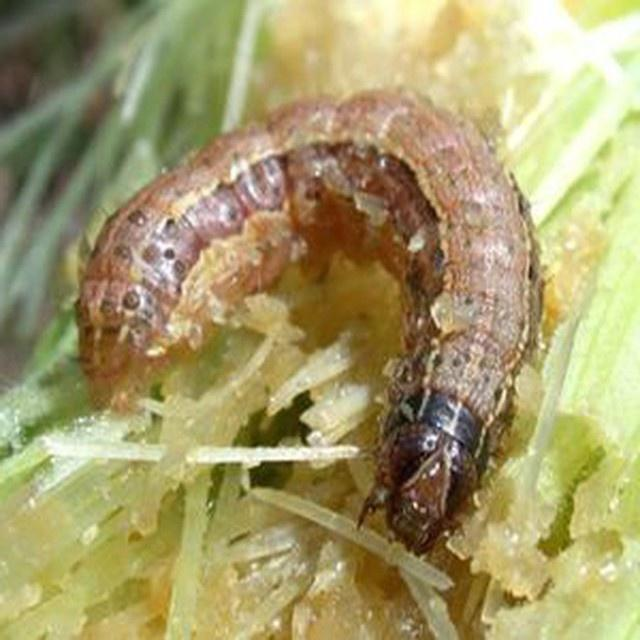gusano_cogollero: (74, 83, 547, 560)
